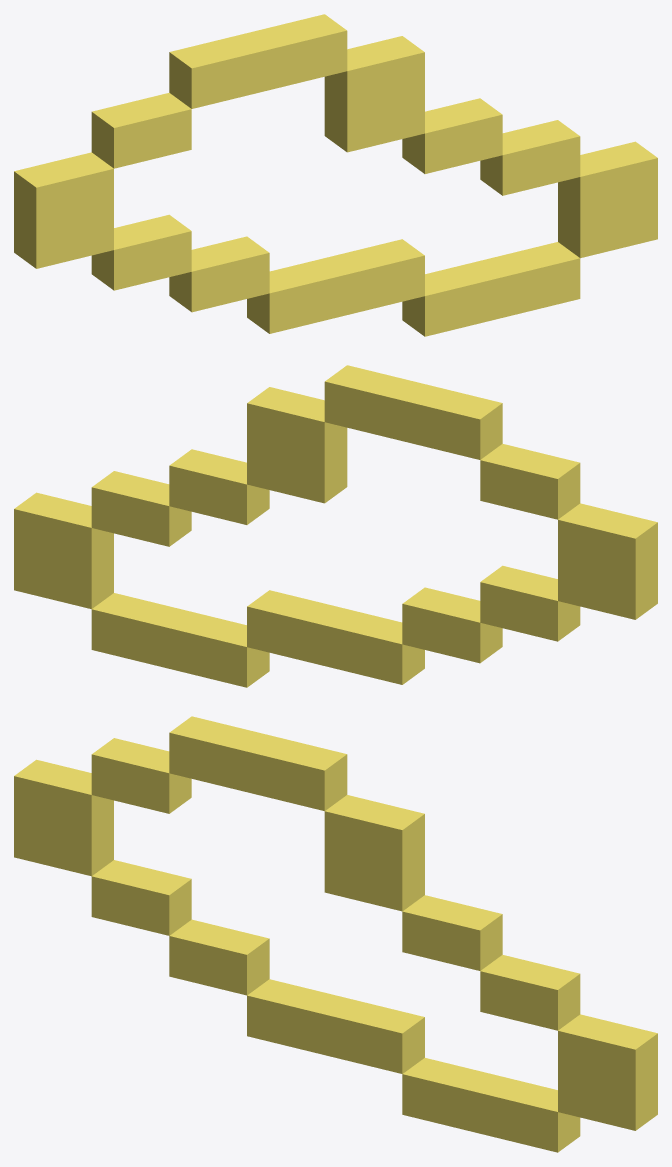
Rendered from Necklace-Yellow.vox.obj.
3 renders of one model, top to bottom at view 1: azimuth 30°, elevation 25°; view 2: azimuth 150°, elevation 25°; view 3: azimuth 330°, elevation 25°, orthographic.
Size of the model in its own units: 1.6 by 0.8 by 0.1.
1 material, 1 textured.
